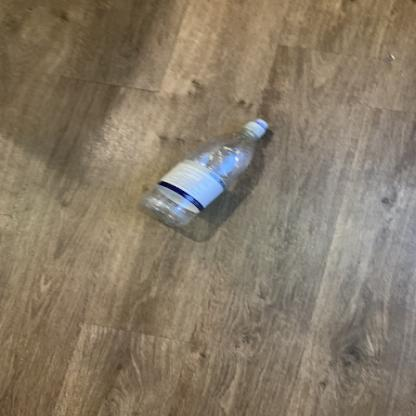trash: (138, 118, 270, 229)
